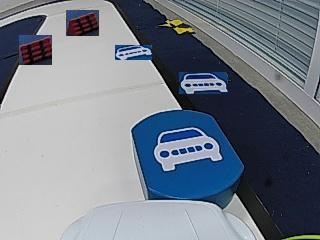safety: (154, 128, 224, 170)
